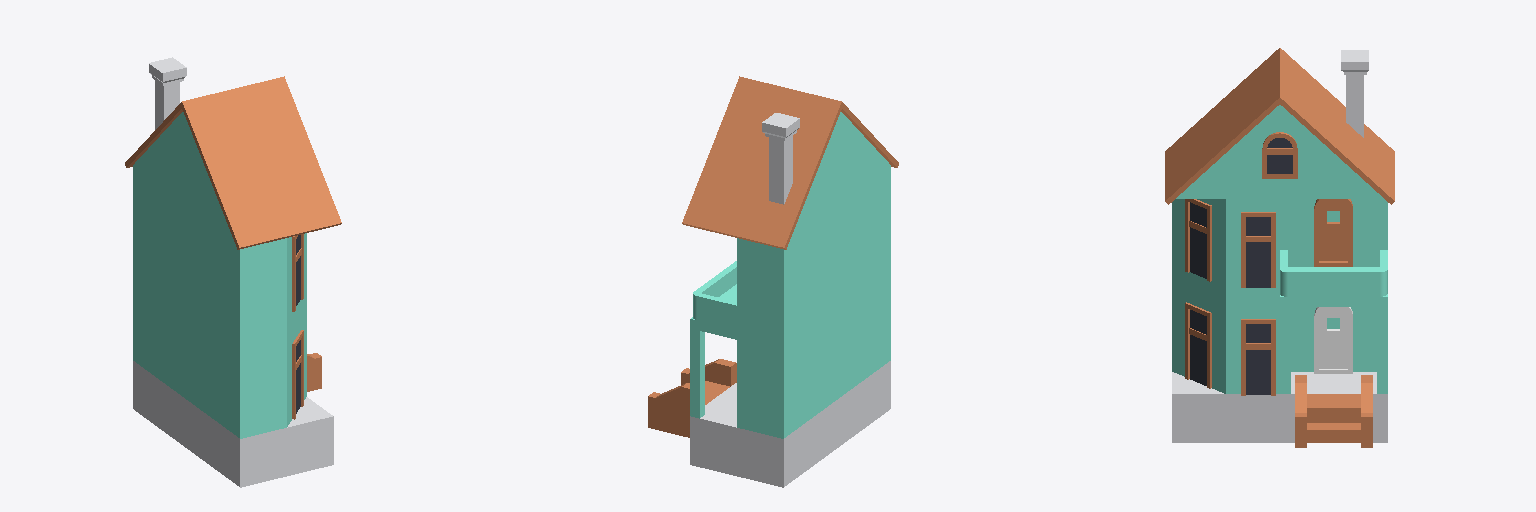
File: Victorian3.obj
The picture shows the model from 3 angles: view 1: azimuth 30°, elevation 25°; view 2: azimuth 150°, elevation 25°; view 3: azimuth 270°, elevation 25°; orthographic projection.
Bounding box in the file's own units: 1.59 × 3.6 × 2.14.